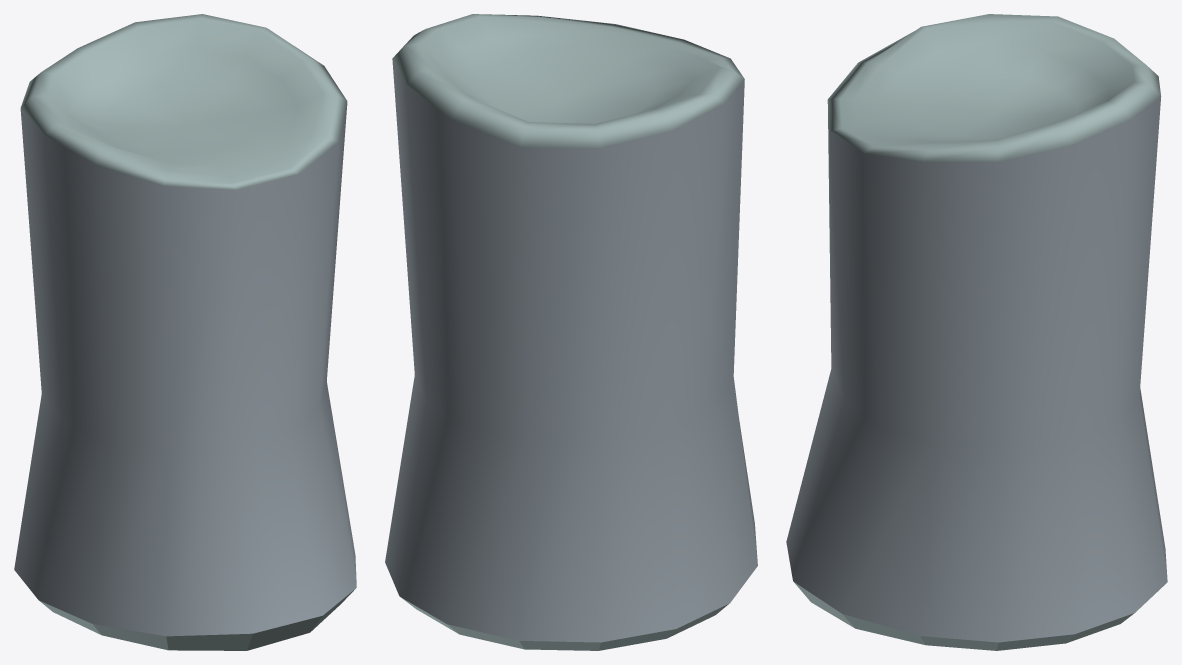
Rendered from Candle1.fbx.
The picture shows the model from 3 angles, left to right: view 1: azimuth 30°, elevation 25°; view 2: azimuth 150°, elevation 25°; view 3: azimuth 270°, elevation 25°; orthographic projection. The views are drawn at different scales.
Parts seen in each view (by area): view 1: candle1; view 2: candle1; view 3: candle1.
Part boxes in pixels (left/top/right/bottom): candle1: left=14, top=14, right=356, bottom=650; candle1: left=385, top=14, right=757, bottom=650; candle1: left=786, top=14, right=1167, bottom=650.
Size of the model in its own units: 2.09 by 3.36 by 2.24.
